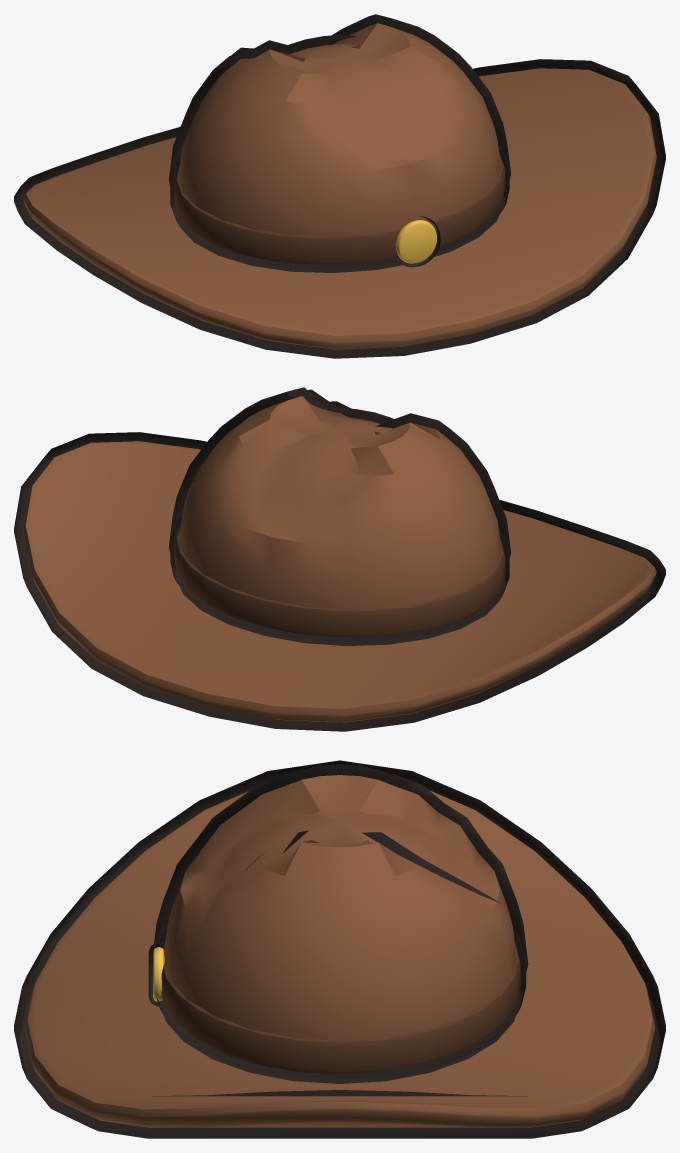
The model's file is hat_cowboy.fbx.
The picture shows the model from 3 angles, top to bottom: view 1: azimuth 30°, elevation 25°; view 2: azimuth 150°, elevation 25°; view 3: azimuth 270°, elevation 25°; orthographic projection. The views are drawn at different scales.
Visible parts, largest first — view 1: hat_cowboy_C_8A5A3B, hat_cowboy_Outline, hat_cowboy_C_5C3A25, hat_cowboy_C_F2C14E; view 2: hat_cowboy_C_8A5A3B, hat_cowboy_Outline, hat_cowboy_C_5C3A25; view 3: hat_cowboy_C_8A5A3B, hat_cowboy_Outline, hat_cowboy_C_5C3A25.
Boxes of the visible parts, x1,y1,x2,y2 form: hat_cowboy_C_8A5A3B: (23, 23, 656, 349); hat_cowboy_Outline: (14, 14, 665, 358); hat_cowboy_C_5C3A25: (174, 153, 505, 264); hat_cowboy_C_F2C14E: (395, 220, 437, 263); hat_cowboy_C_8A5A3B: (23, 396, 656, 722); hat_cowboy_Outline: (14, 387, 665, 731); hat_cowboy_C_5C3A25: (174, 526, 505, 637); hat_cowboy_C_8A5A3B: (25, 775, 654, 1127); hat_cowboy_Outline: (14, 760, 665, 1138); hat_cowboy_C_5C3A25: (161, 942, 520, 1074).
Bounding box in the file's own units: 1.03 × 0.3465 × 0.8276.
